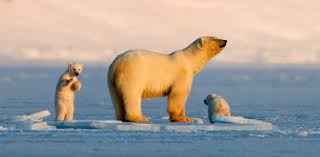PolarBear: (102, 29, 229, 122)
